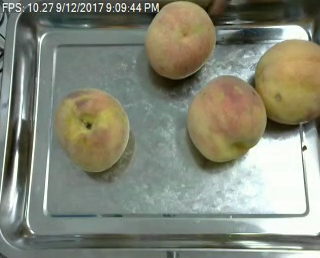Peach: (186, 74, 267, 162), (53, 87, 130, 172), (253, 40, 319, 125), (145, 0, 216, 79)
